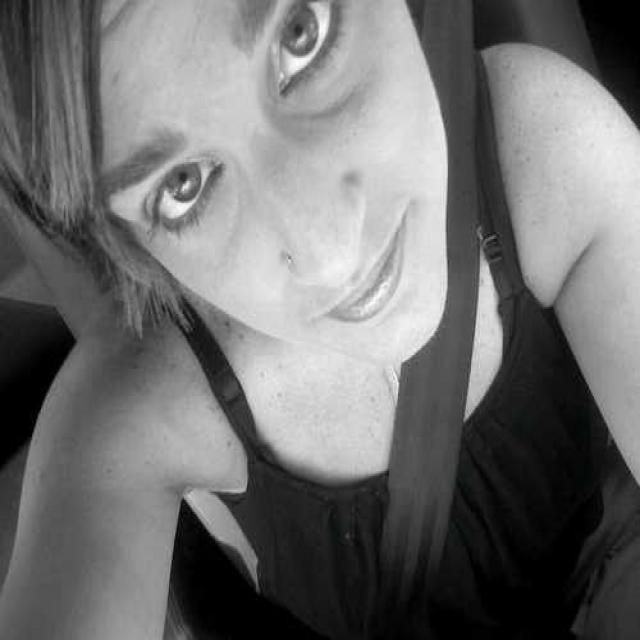seatbelt: (356, 42, 520, 590)
